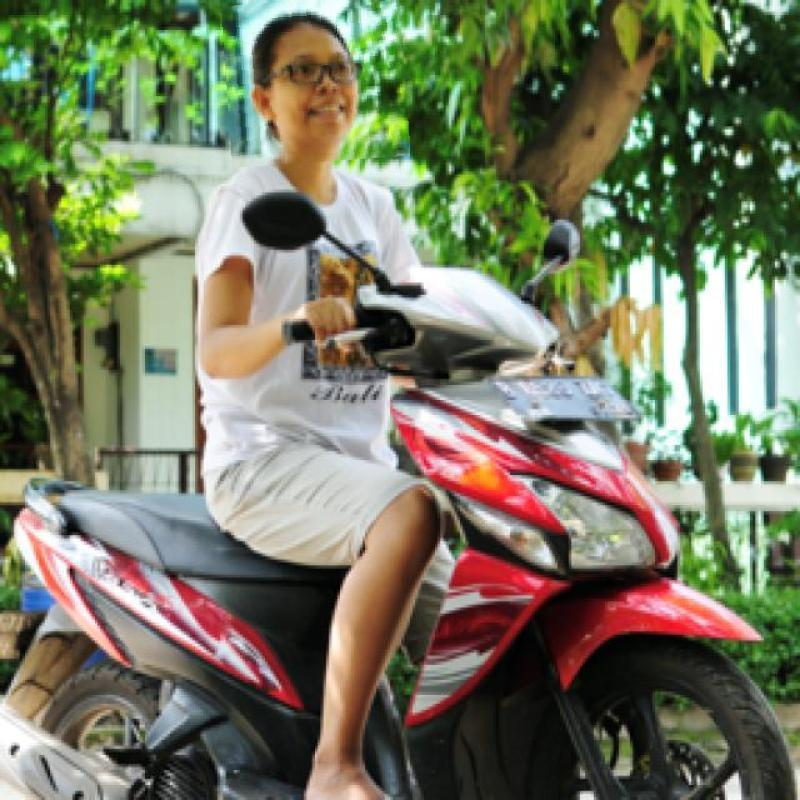nohelmet: (223, 0, 407, 165)
